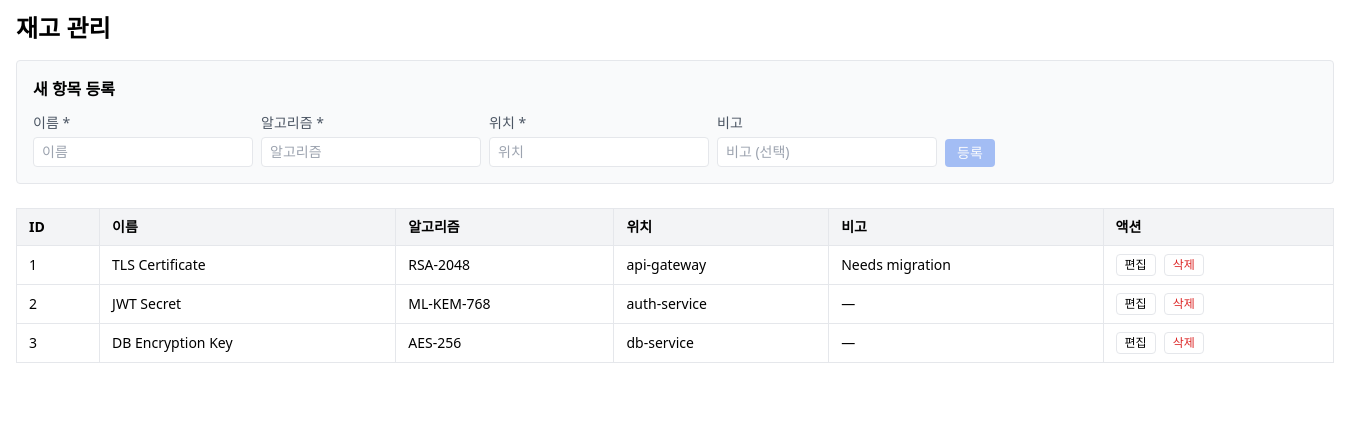
it: InventoryPage › 편집 성공 시 목록에 변경값 반영
Expected: the text "TLS Certificate" is shown, [100,246,396,284]
Click the button with aria-label "편집 TLS Certificate" at (1136, 265), box [1116,254,1156,276]
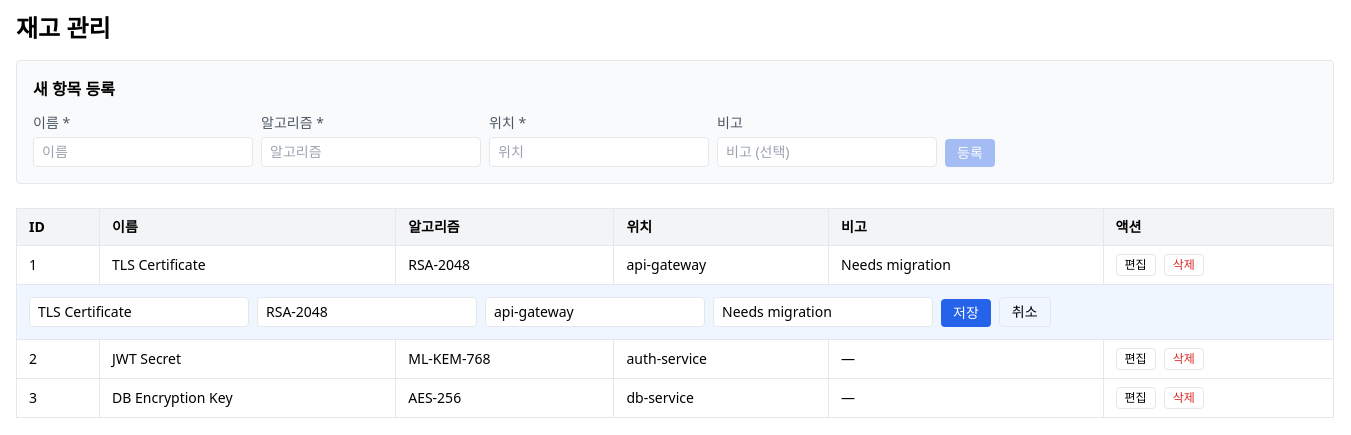
Replace the text in the field named "편집 이름" with "Updated Cert" at (139, 312), box [29,297,249,327]
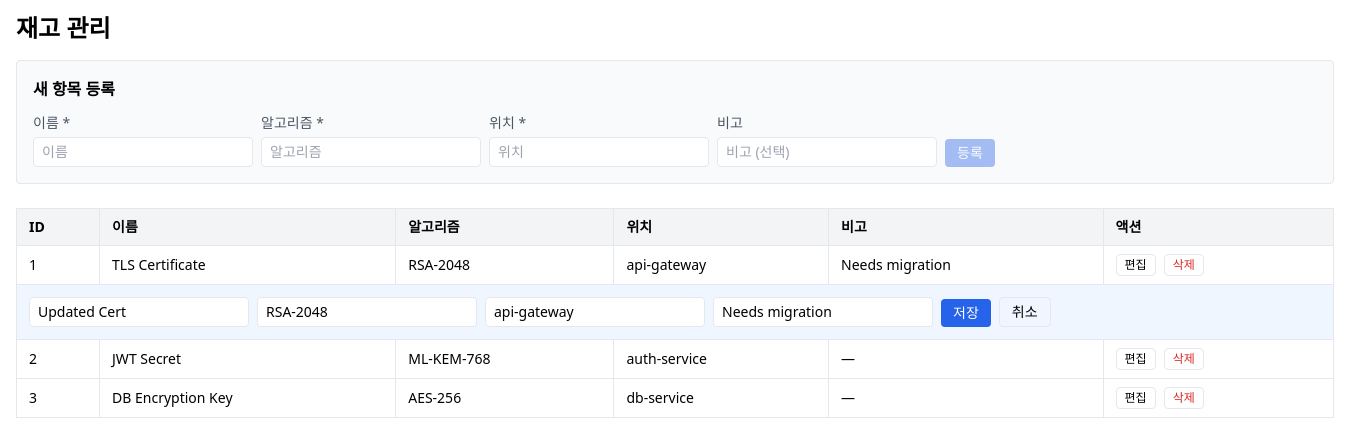
Click the button "저장" at (966, 313), box [941,299,991,327]
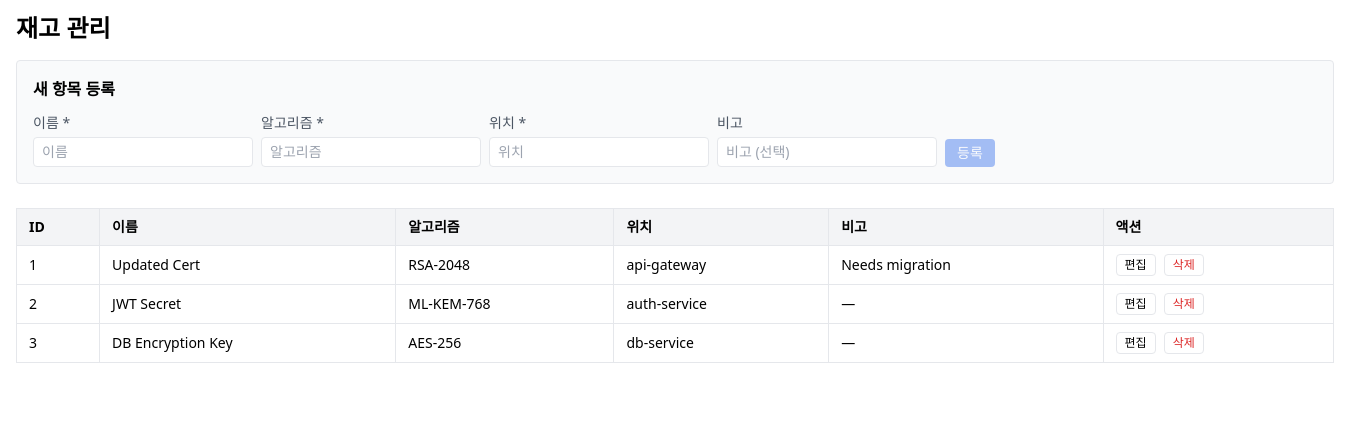
Now the text "Updated Cert" is shown, box [100,246,396,284]
Now the text "TLS Certificate" is gone
